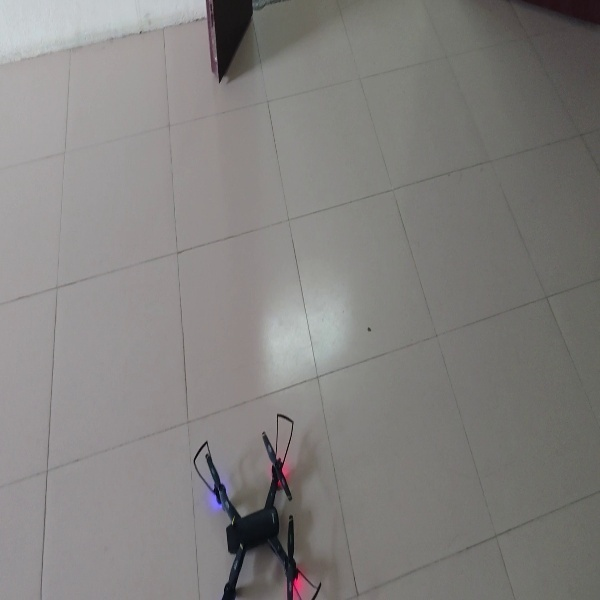drone: (189, 411, 326, 600)
